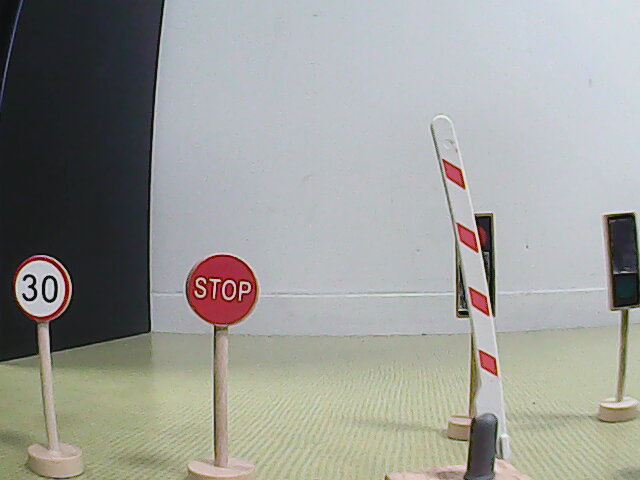barrier_up: (378, 110, 541, 480)
green_traffic_sign: (604, 213, 640, 309)
sign_30: (12, 254, 74, 322)
stop_sign: (186, 254, 259, 328)
